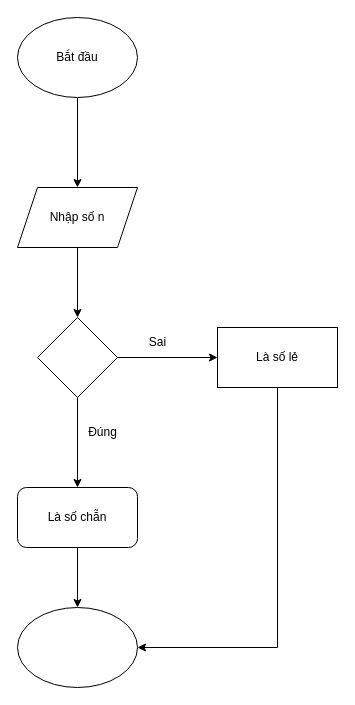
Some shapes in this 355 by 705 pixel diagram are drawn without their labels. The centre of each missing label's shape, as x and y in pixels:
Kết thúc: (77,647)
n % 2 == 0: (77,357)
